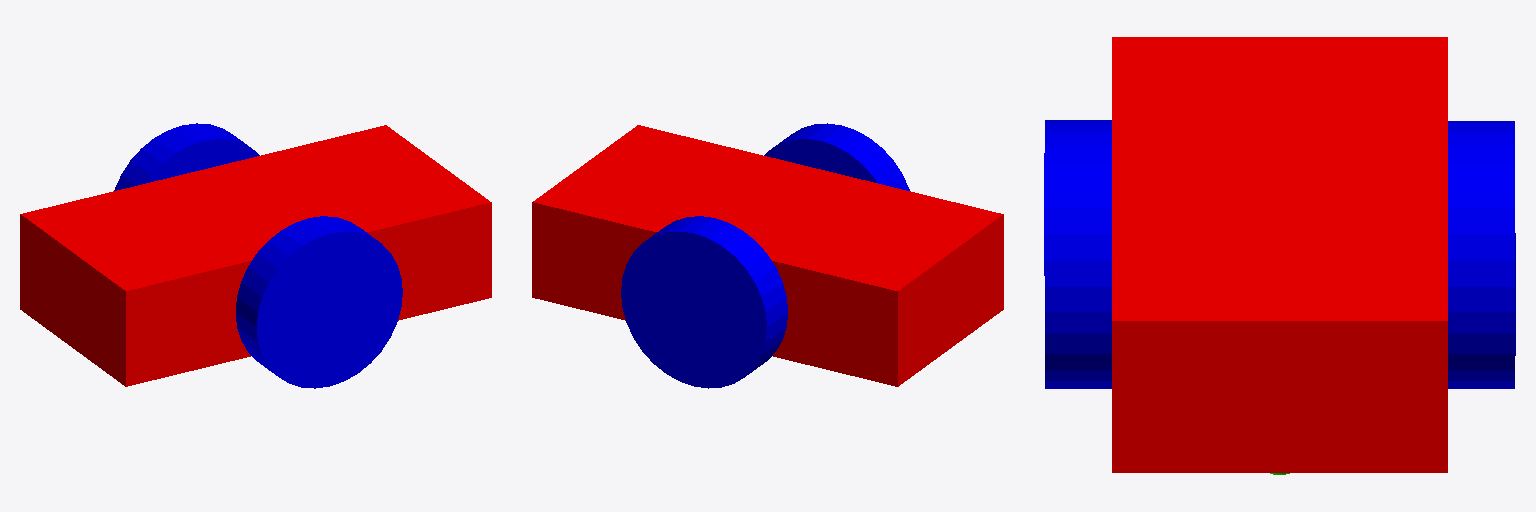
URDF robot description (mechabot):
<?xml version="1.0" ?> 
<robot name="mechabot" xmlns:xacro="http://www.ros.org/wiki/xacro">

    <link name="base_footprint"/>

    <link name="base_link">
        <visual>
            <origin xyz="0.0 0.0 0.0" rpy="0.0 0.0 0.0"/>
            <geometry>
                <box size="0.1 0.2 0.05"/>
            </geometry>
            <material name="red">
                <color rgba="1.0 0.0 0.0 1.0"/>
            </material>
        </visual>
    </link>

    <joint name="base_joint" type="fixed">
        <origin xyz="0.0 0.0 0.04" rpy="0.0 0.0 1.57"/>
        <parent link="base_footprint"/>
        <child link="base_link"/>
    </joint>

    <link name="right_wheel_link">
        <visual name="">
            <origin xyz="0.0 0.0 0.0" rpy="0.0 0.0 0.0"/>
            <geometry>
                <cylinder radius="0.04" length="0.02"/>
            </geometry>
            <material name="blue">
                <color rgba="0.0 0.0 1.0 1.0"/>
                <texture filename=""/>
            </material>
        </visual>
        <collision>
            <origin xyz="0.0 0.0 0.0" rpy="0.0 0.0 0.0"/>
            <geometry>
                <box size="0.0 0.0 0.0"/>
            </geometry>
        </collision>
    </link>

    <joint name="right_wheel_joint " type="continuous">
        <origin xyz="0.06 0.0 0.0" rpy="0.0 1.57 0.0"/>
        <parent link="base_link"/>
        <child link="right_wheel_link"/>
        <axis xyz="0.0 0.0 1.0"/>
    </joint>

    <link name="left_wheel_link">
        <visual name="">
            <origin xyz="0.0 0.0 0.0" rpy="0.0 0.0 0.0"/>
            <geometry>
                <cylinder radius="0.04" length="0.02"/>
            </geometry>
            <material name="blue">
                <color rgba="0.0 0.0 1.0 1.0"/>
                <texture filename=""/>
            </material>
        </visual>
        <collision>
            <origin xyz="0.0 0.0 0.0" rpy="0.0 0.0 0.0"/>
            <geometry>
                <box size="0.0 0.0 0.0"/>
            </geometry>
        </collision>
    </link>

    <joint name="left_wheel_joint " type="continuous">
        <origin xyz="-0.06 0.0 0.0" rpy="0.0 1.57 0.0"/>
        <parent link="base_link"/>
        <child link="left_wheel_link"/>
        <axis xyz="0.0 0.0 1.0"/>
    </joint>

    <link name="front_caster_link">
        <visual name="">
            <origin xyz="0.0 0.0 0.0" rpy="0.0 0.0 0.0"/>
            <geometry>
                <sphere radius="0.0075"/>
            </geometry>
            <material name="green">
                <color rgba="0.0 1.0 0.0 1.0"/>
                <texture filename=""/>
            </material>
        </visual>
        <collision>
            <origin xyz="0.0 0.0 0.0" rpy="0.0 0.0 0.0"/>
            <geometry>
                <box size="0.0 0.0 0.0"/>
            </geometry>
        </collision>
    </link>

    <joint name="front_caster_joint" type="fixed">
        <origin xyz="0.0 0.07 -0.0315" rpy="0.0 0.0 0.0"/>
        <parent link="base_link"/>
        <child link="front_caster_link"/>
        <axis xyz="0.0 1.0 0.0"/>
        <limit lower="0.0" upper="0.0" effort="0.0" velocity="0.0"/>
    </joint>


    <link name="rear_caster_link">
        <visual name="">
            <origin xyz="0.0 0.0 0.0" rpy="0.0 0.0 0.0"/>
            <geometry>
                <sphere radius="0.0075"/>
            </geometry>
            <material name="green">
                <color rgba="0.0 1.0 0.0 1.0"/>
                <texture filename=""/>
            </material>
        </visual>
        <collision>
            <origin xyz="0.0 0.0 0.0" rpy="0.0 0.0 0.0"/>
            <geometry>
                <box size="0.0 0.0 0.0"/>
            </geometry>
        </collision>
    </link>

    <joint name="rear_caster_joint" type="fixed">
        <origin xyz="0.0 -0.07 -0.0315" rpy="0.0 0.0 0.0"/>
        <parent link="base_link"/>
        <child link="rear_caster_link"/>
        <axis xyz="0.0 1.0 0.0"/>
        <limit lower="0.0" upper="0.0" effort="0.0" velocity="0.0"/>
    </joint>

</robot>

--- Facts derived from the render (not from the file) ---
3 views of the same robot in one strip: view 1: azimuth 30°, elevation 25°; view 2: azimuth 150°, elevation 25°; view 3: azimuth 270°, elevation 25° (orthographic).
Robot: mechabot — 6 links, 5 joints (2 continuous, 3 fixed); root link base_footprint; default pose: all joints at 0.
Links seen in each view (by area): view 1: base_link, left_wheel_link, right_wheel_link; view 2: base_link, right_wheel_link, left_wheel_link; view 3: base_link, left_wheel_link, right_wheel_link.
Boxes of the visible links, bbox=[...] form: base_link: bbox=[20, 125, 491, 386]; left_wheel_link: bbox=[236, 216, 402, 388]; right_wheel_link: bbox=[114, 123, 259, 190]; base_link: bbox=[532, 125, 1003, 386]; right_wheel_link: bbox=[621, 216, 787, 388]; left_wheel_link: bbox=[764, 123, 909, 190]; base_link: bbox=[1112, 37, 1447, 472]; left_wheel_link: bbox=[1044, 120, 1111, 388]; right_wheel_link: bbox=[1448, 121, 1515, 388].
Bounding box of the posed robot: 0.2001 × 0.1401 × 0.08 m (x, y, z).
Geometry: primitives only (box / cylinder / sphere), no mesh files.
